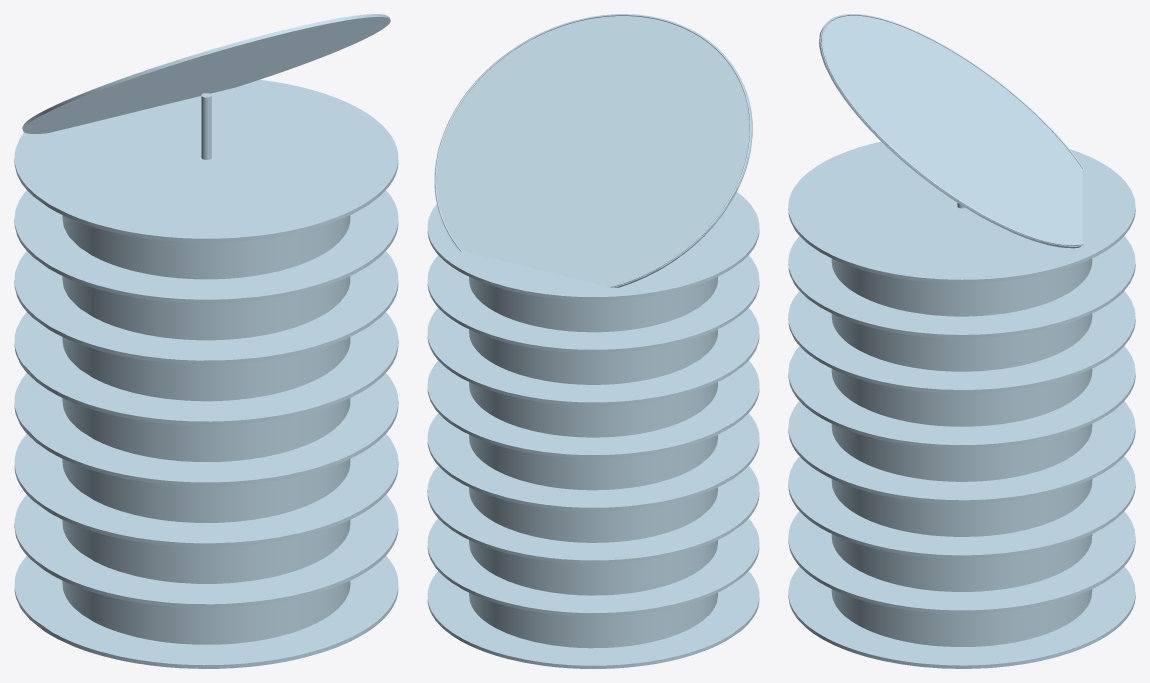
The model's file is tower_lod_lod1.glb.
3 views of the same model, side by side, from view 1: azimuth 30°, elevation 25°; view 2: azimuth 150°, elevation 25°; view 3: azimuth 270°, elevation 25° (orthographic). The views are drawn at different scales.
Parts seen in each view (by area): view 1: LOD slab (×8), LOD facade, Solar disc, LOD column, Solar rim; view 2: LOD slab (×8), Solar disc, LOD facade, Solar rim; view 3: LOD slab (×8), LOD facade, Solar disc, Solar rim.
Boxes of the visible parts, x1=… form: LOD slab (×8): x1=14, y1=79, x2=398, y2=668; LOD facade: x1=62, y1=215, x2=350, y2=644; Solar disc: x1=22, y1=14, x2=390, y2=133; LOD column: x1=201, y1=93, x2=211, y2=159; Solar rim: x1=24, y1=14, x2=385, y2=124; LOD slab (×8): x1=427, y1=192, x2=759, y2=668; Solar disc: x1=434, y1=14, x2=752, y2=287; LOD facade: x1=469, y1=276, x2=717, y2=648; Solar rim: x1=435, y1=14, x2=751, y2=287; LOD slab (×8): x1=788, y1=141, x2=1135, y2=668; LOD facade: x1=831, y1=258, x2=1092, y2=646; Solar disc: x1=819, y1=14, x2=1082, y2=248; Solar rim: x1=821, y1=14, x2=1084, y2=245.
Size of the model in its own units: 20 by 35.5 by 20.
